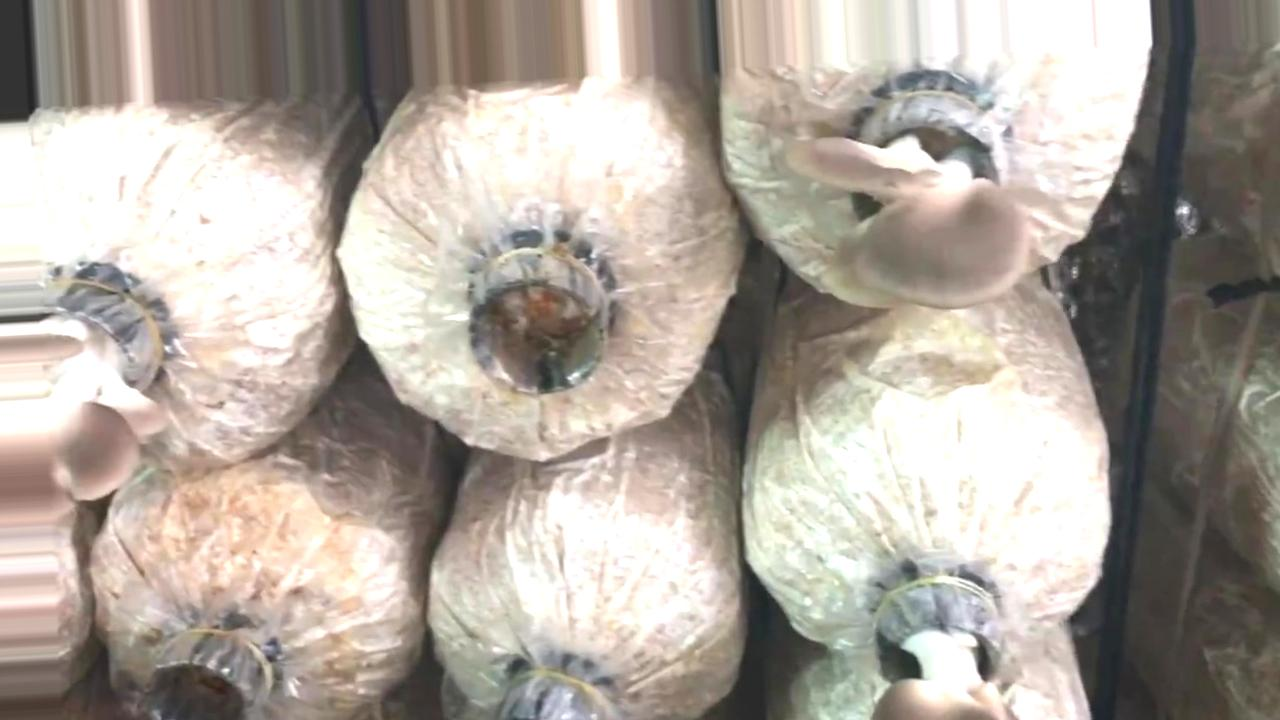nam: (784, 67, 1041, 310), (1, 264, 161, 524), (876, 570, 1011, 720)
